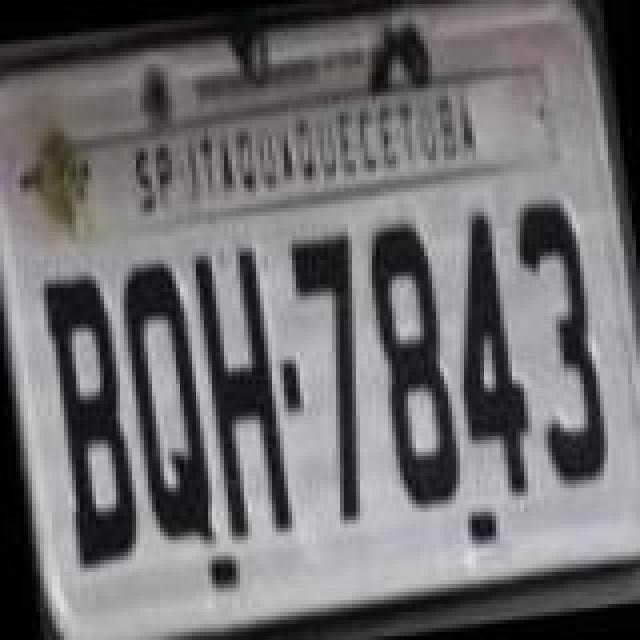3: (506, 194, 614, 494)
4: (436, 204, 544, 504)
7: (286, 226, 390, 526)
8: (356, 214, 464, 514)
B: (36, 262, 148, 570)
H: (188, 240, 296, 540)
Q: (112, 254, 220, 558)
